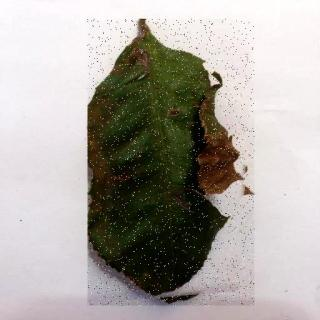Algal Leaf: (89, 20, 256, 307)
